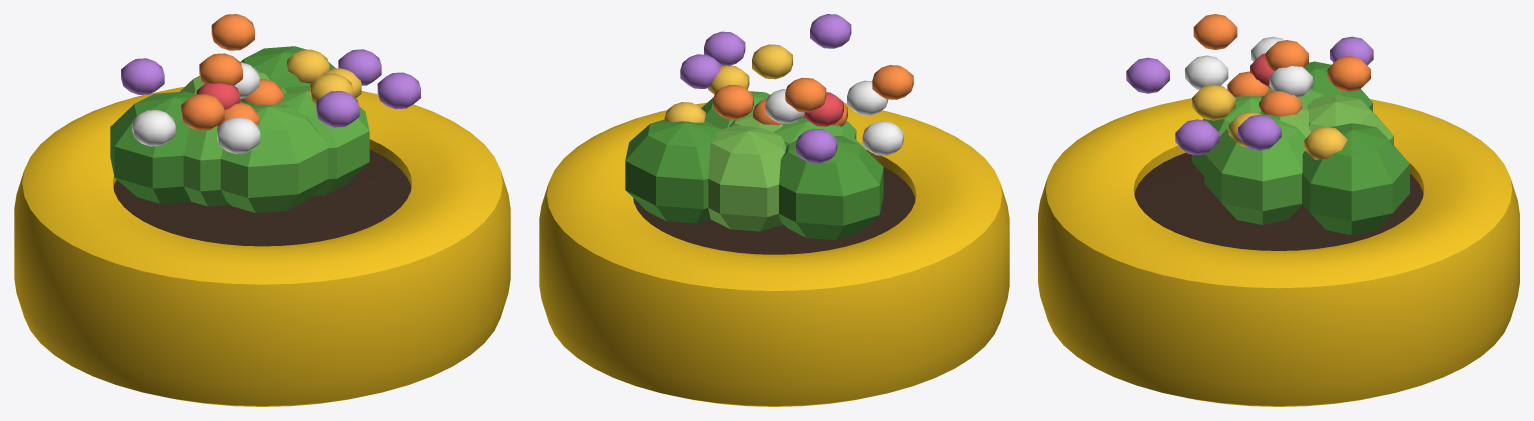
File: tyre_planter_yellow.fbx
3 renders of one model, left to right at view 1: azimuth 30°, elevation 25°; view 2: azimuth 150°, elevation 25°; view 3: azimuth 270°, elevation 25°, orthographic. The views are drawn at different scales.
Visible parts, largest first — view 1: tyre_planter_yellow; view 2: tyre_planter_yellow; view 3: tyre_planter_yellow.
Boxes of the visible parts, bbox=[...] form: tyre_planter_yellow: bbox=[14, 14, 510, 406]; tyre_planter_yellow: bbox=[539, 14, 1009, 406]; tyre_planter_yellow: bbox=[1038, 14, 1519, 406].
Bounding box in the file's own units: 0.63 × 0.3787 × 0.63.
